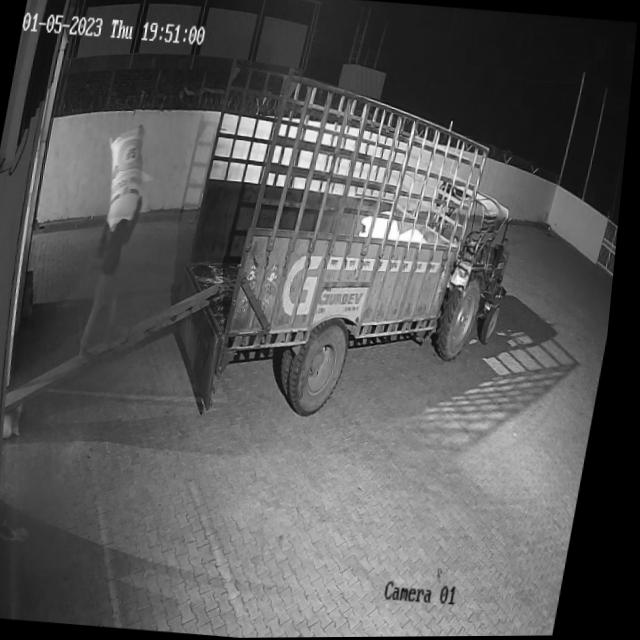sack: (97, 121, 158, 231)
